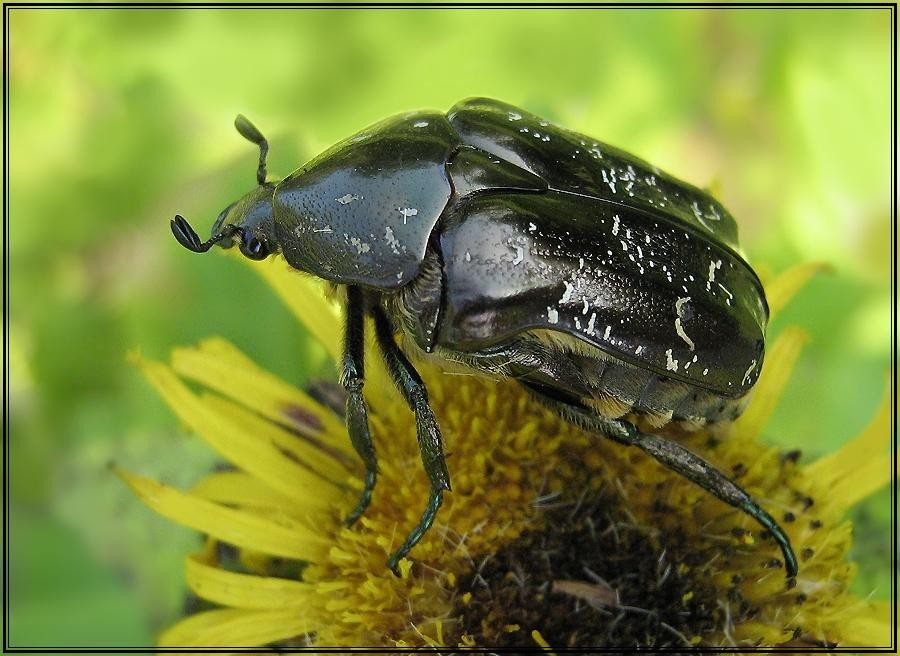Protaetia_lugubris: (174, 91, 813, 593)
